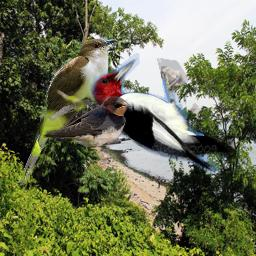Cuckoo: (18, 37, 118, 185)
Swallow: (43, 95, 131, 151)
Woodpecker: (75, 53, 243, 179)
